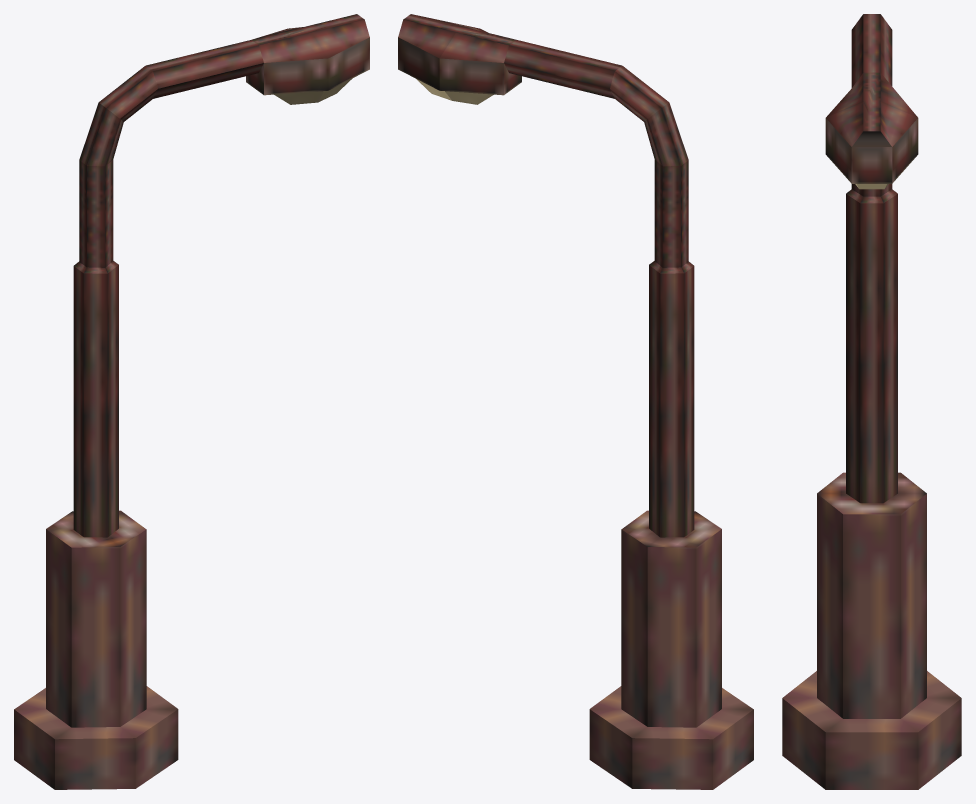
File: Poly_SF_Outside_B_Street_Light_01.obj
3 views of the same model, side by side, from view 1: azimuth 30°, elevation 25°; view 2: azimuth 150°, elevation 25°; view 3: azimuth 270°, elevation 25° (orthographic). The views are drawn at different scales.
Visible parts, largest first — view 1: Cube.001, Cube.002, Cube.003; view 2: Cube.001, Cube.002; view 3: Cube.001, Cube.002.
Part boxes in pixels (x1,y1,x2,y2): Cube.001: (14, 40, 263, 789); Cube.002: (246, 14, 369, 95); Cube.003: (274, 78, 352, 104); Cube.001: (504, 40, 753, 789); Cube.002: (398, 14, 521, 95); Cube.001: (782, 14, 961, 789); Cube.002: (825, 72, 918, 183).
Bounding box in the file's own units: 1.48 × 2.94 × 0.62.
1 material, 1 textured.
